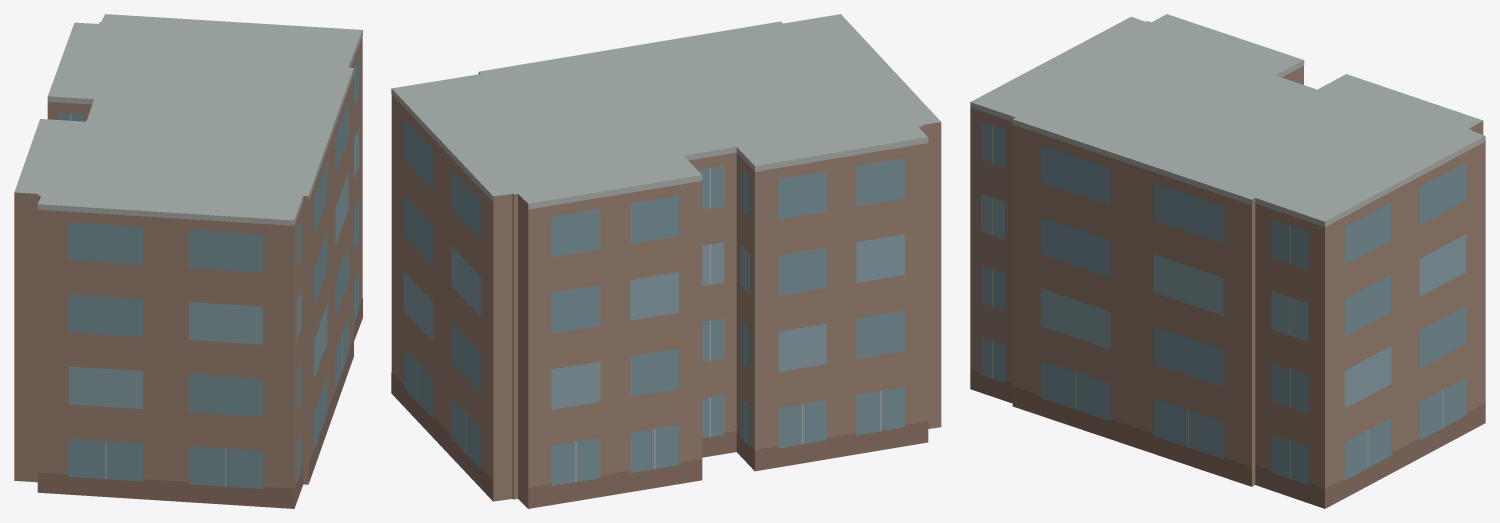
File: survey-upis-32667457.glb
3 renders of one model, left to right at view 1: azimuth 30°, elevation 25°; view 2: azimuth 150°, elevation 25°; view 3: azimuth 270°, elevation 25°, orthographic. The views are drawn at different scales.
Visible parts, largest first — view 1: survey-upis-32667457.tmp; view 2: survey-upis-32667457.tmp; view 3: survey-upis-32667457.tmp.
Part boxes in pixels (left/top/right/bottom): survey-upis-32667457.tmp: left=14, top=14, right=362, bottom=508; survey-upis-32667457.tmp: left=391, top=14, right=941, bottom=508; survey-upis-32667457.tmp: left=970, top=14, right=1485, bottom=508.
Bounding box in the file's own units: 20.19 × 13 × 21.16.
